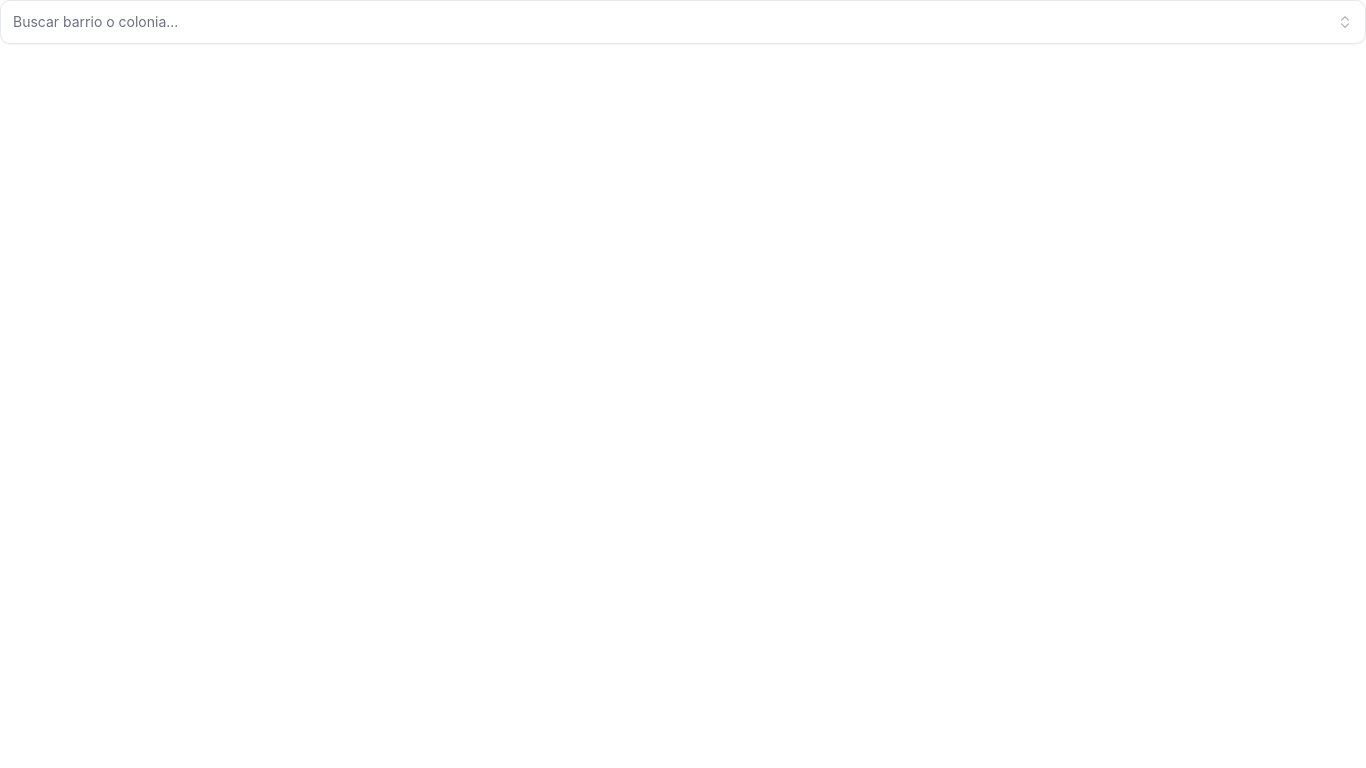
Test: BarrioSelectCombobox › loads the neighborhood catalog only after opening
Click the dropdown. click: x=96, y=22
box: [0,0,1365,44]
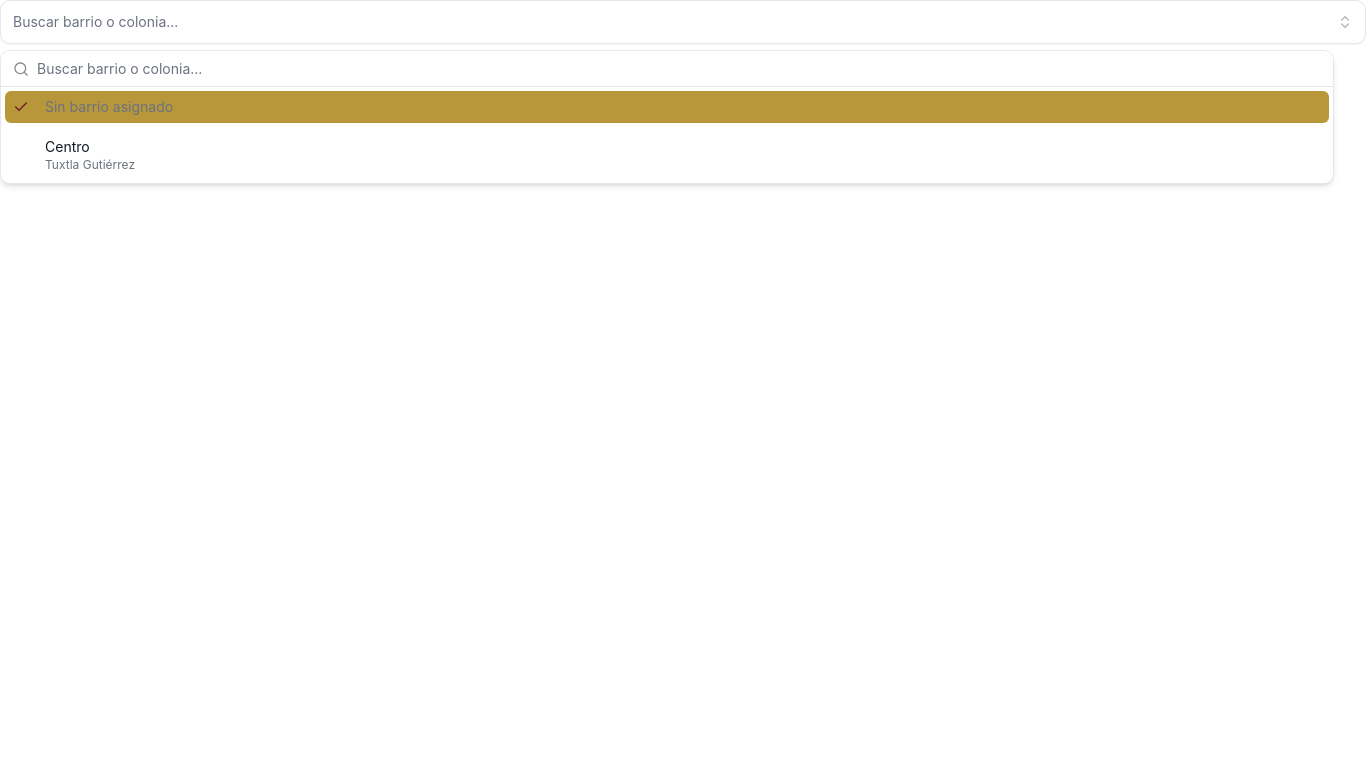
Expected: the text "Centro" is shown, [45,138,90,155]
Expected: the text "Tuxtla Gutiérrez" is shown, [45,157,135,172]
